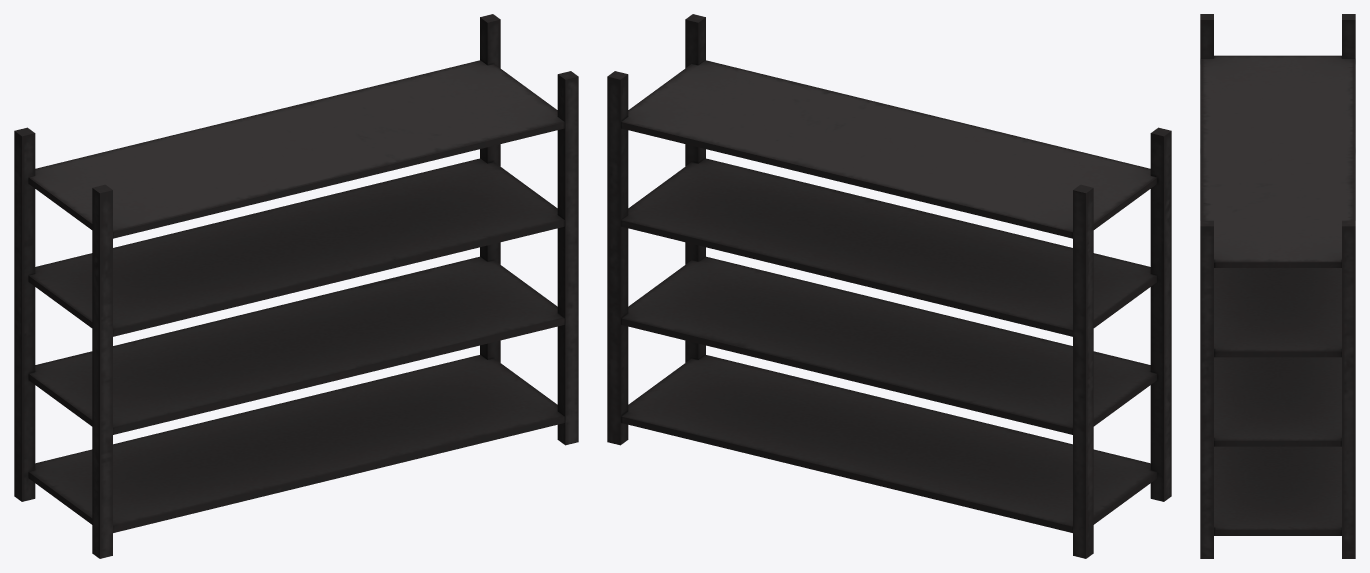
Rendered from Shelf.fbx.
3 renders of one model, left to right at view 1: azimuth 30°, elevation 25°; view 2: azimuth 150°, elevation 25°; view 3: azimuth 270°, elevation 25°, orthographic. The views are drawn at different scales.
Visible parts, largest first — view 1: Shelf; view 2: Shelf; view 3: Shelf.
Part boxes in pixels (x1,y1,x2,y2): Shelf: (14,14,578,558); Shelf: (607,14,1171,558); Shelf: (1200,14,1355,558).
Bounding box in the file's own units: 214 × 156 × 66.29.
